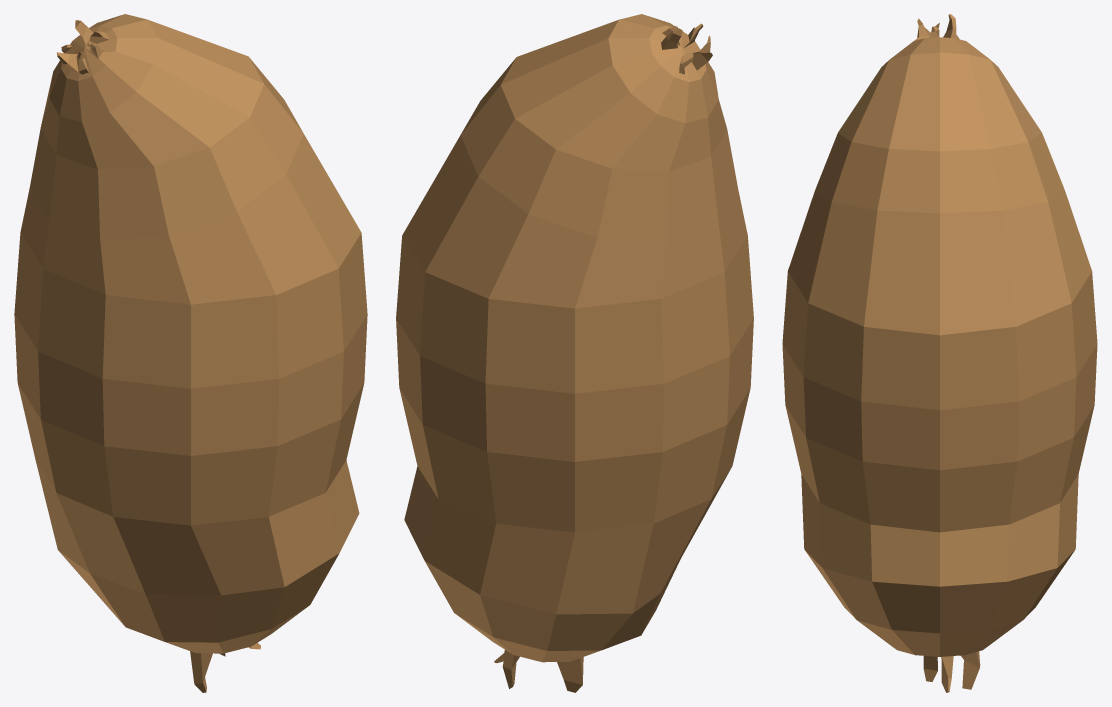
Rendered from potato.fbx.
3 views of the same model, side by side, from view 1: azimuth 30°, elevation 25°; view 2: azimuth 150°, elevation 25°; view 3: azimuth 270°, elevation 25° (orthographic). The views are drawn at different scales.
Parts seen in each view (by area): view 1: Sphere; view 2: Sphere; view 3: Sphere.
Part boxes in pixels (bbox=[...]): Sphere: bbox=[14, 14, 367, 692]; Sphere: bbox=[396, 14, 753, 692]; Sphere: bbox=[782, 14, 1097, 692].
Size of the model in its own units: 200 by 432 by 200.
